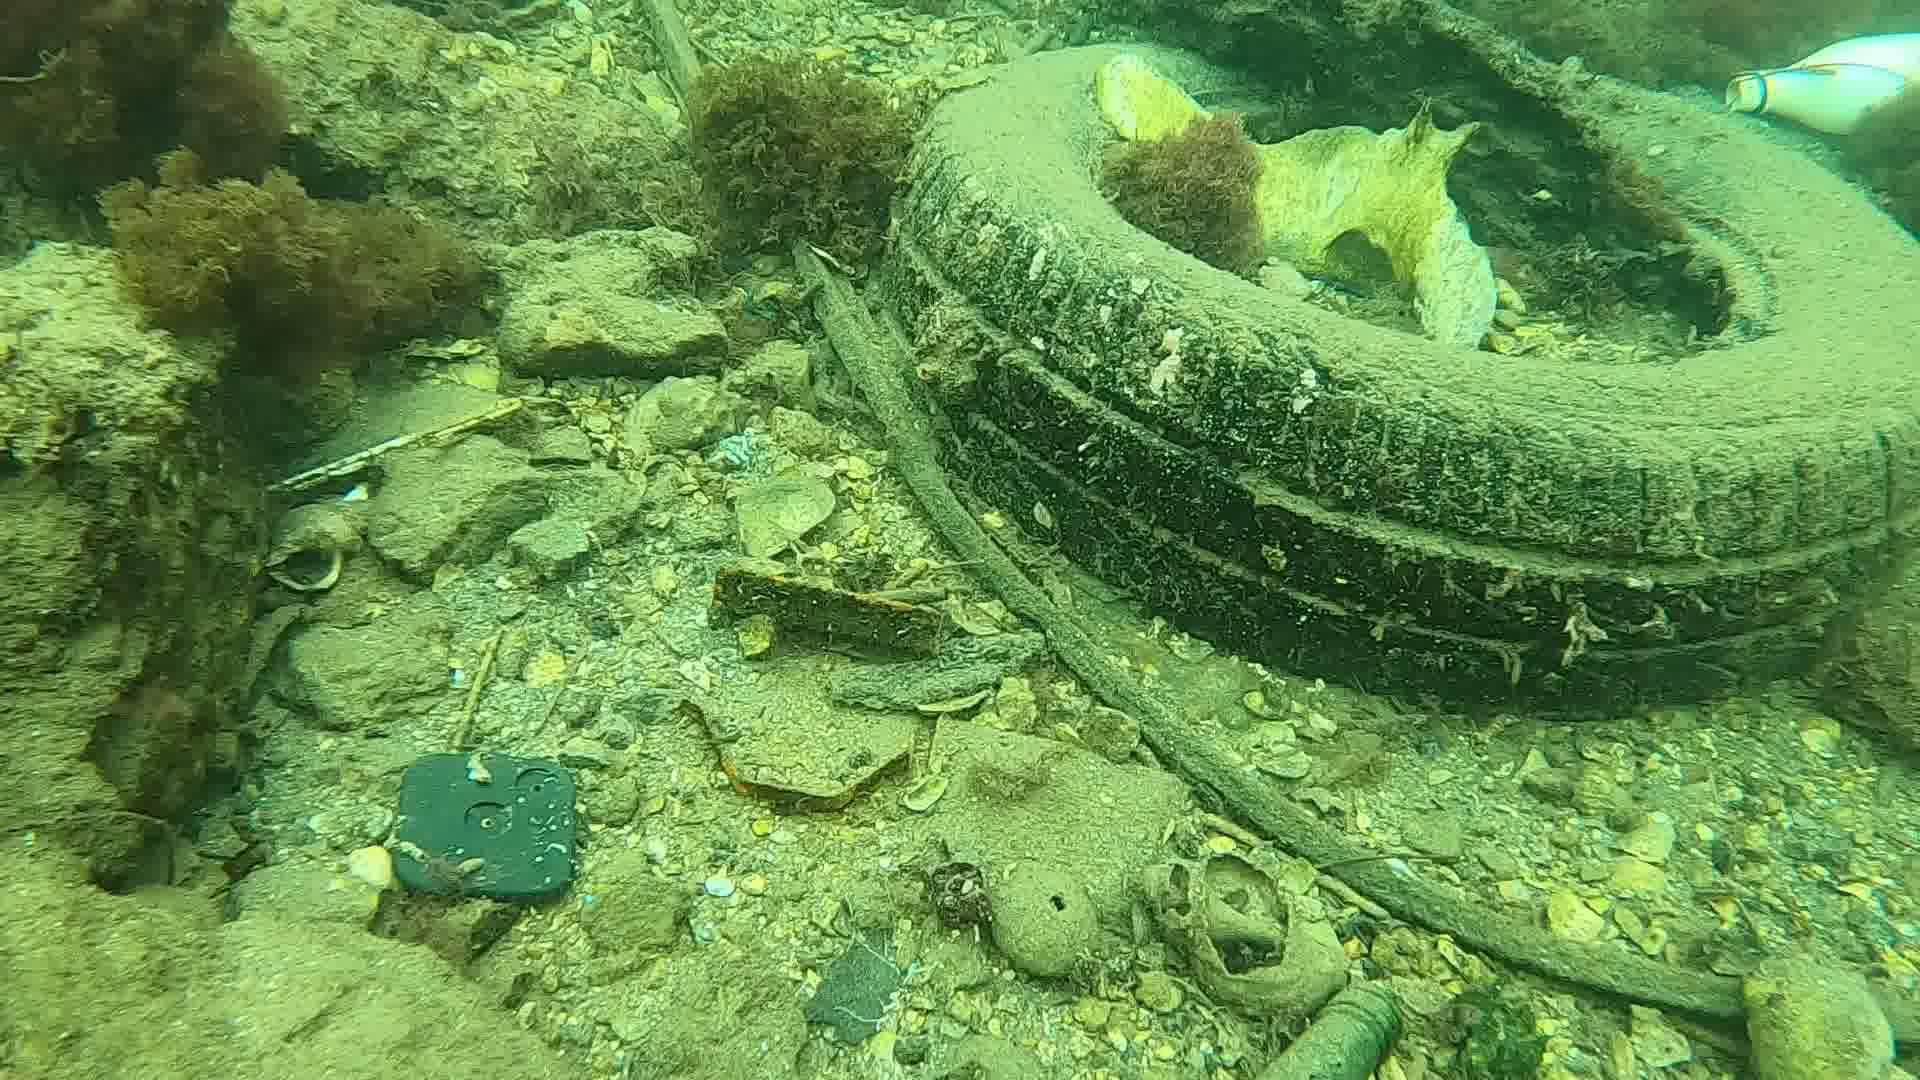tire: (885, 38, 1920, 709)
